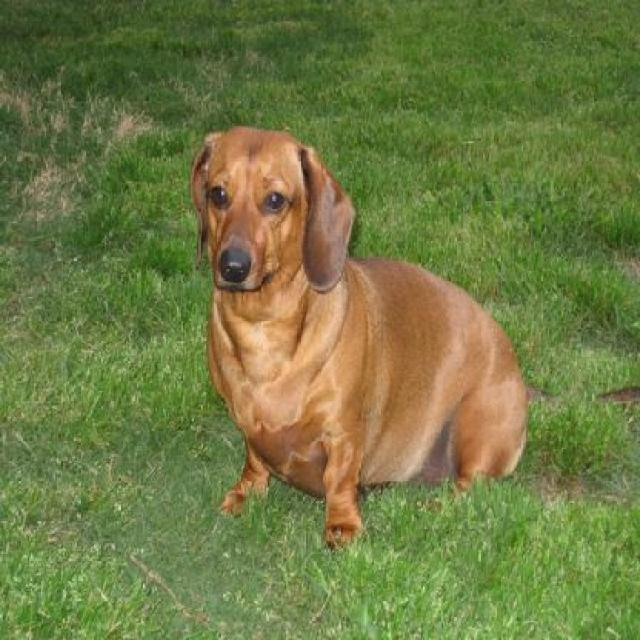Dog: (189, 122, 534, 556)
